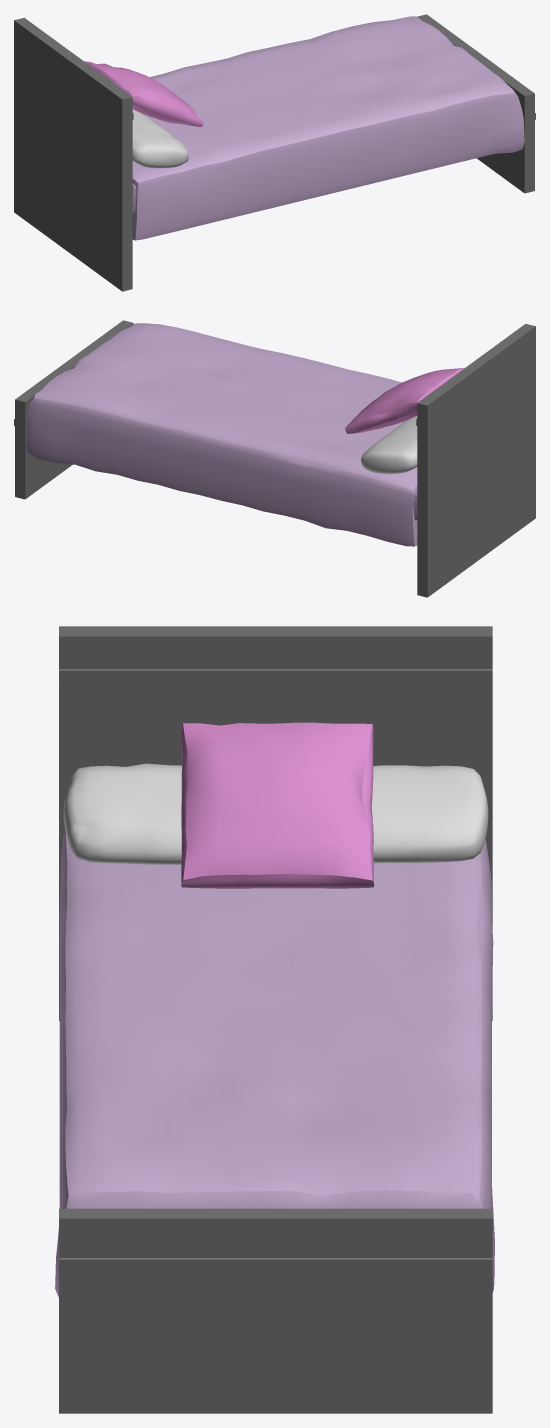
Rendered from Cama90.fbx.
3 views of the same model, one above another, from view 1: azimuth 30°, elevation 25°; view 2: azimuth 150°, elevation 25°; view 3: azimuth 270°, elevation 25° (orthographic). The views are drawn at different scales.
Parts seen in each view (by area): view 1: Edredon1, Cabecero, Cabecero1, Cojin1, Almohada; view 2: Edredon1, Cabecero, Cabecero1, Cojin1, Almohada; view 3: Edredon1, Cabecero1, Cabecero, Cojin1, Almohada.
Boxes of the visible parts, x1,y1,x2,y2 form: Edredon1: (132,16,524,240); Cabecero: (14,17,133,291); Cabecero1: (417,14,535,193); Cojin1: (84,61,203,126); Almohada: (132,109,188,168); Edredon1: (26,323,417,546); Cabecero: (416,323,535,597); Cabecero1: (14,320,133,499); Cojin1: (345,367,464,433); Almohada: (361,416,417,474); Edredon1: (55,829,494,1297); Cabecero1: (59,1208,492,1413); Cabecero: (59,626,492,1020); Cojin1: (181,722,373,888); Almohada: (63,763,488,864).
Bounding box in the file's own units: 19.83 × 8.8 × 9.13.
